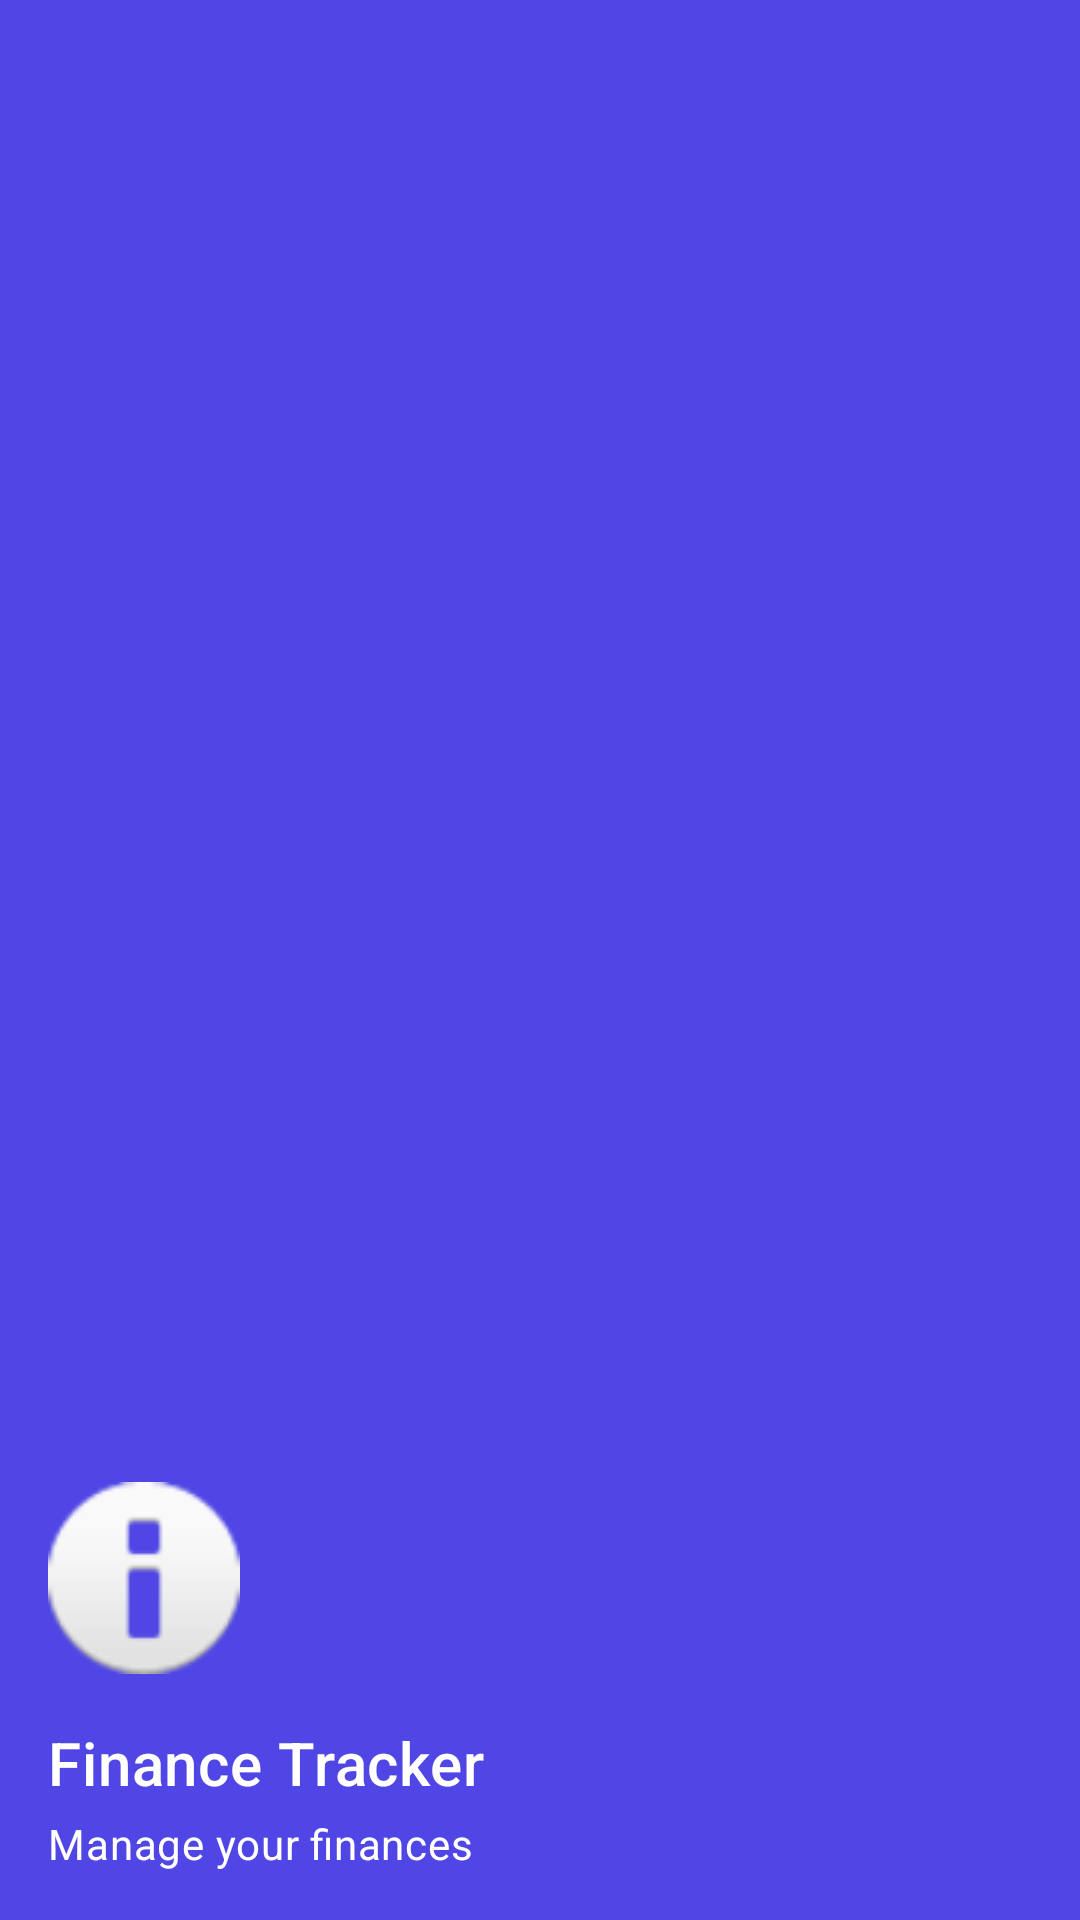

Icons on this 1080 x 1920 Android screen, each with its box as box=[x1, y1, x2, y2]:
info: box=[48, 1482, 240, 1674]
